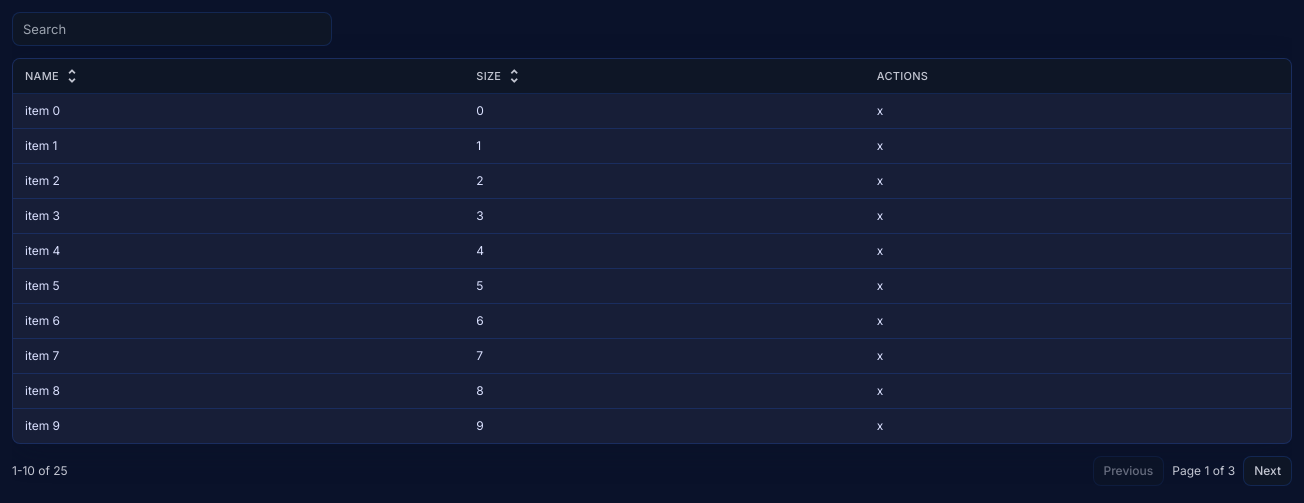
Test case: DataTable › paginates and filters with search
Expected: the text "1-10 of 25" is shown, [12,462,68,480]
Click the button "Next".
click(1268, 471)  # box [1243,456,1292,486]
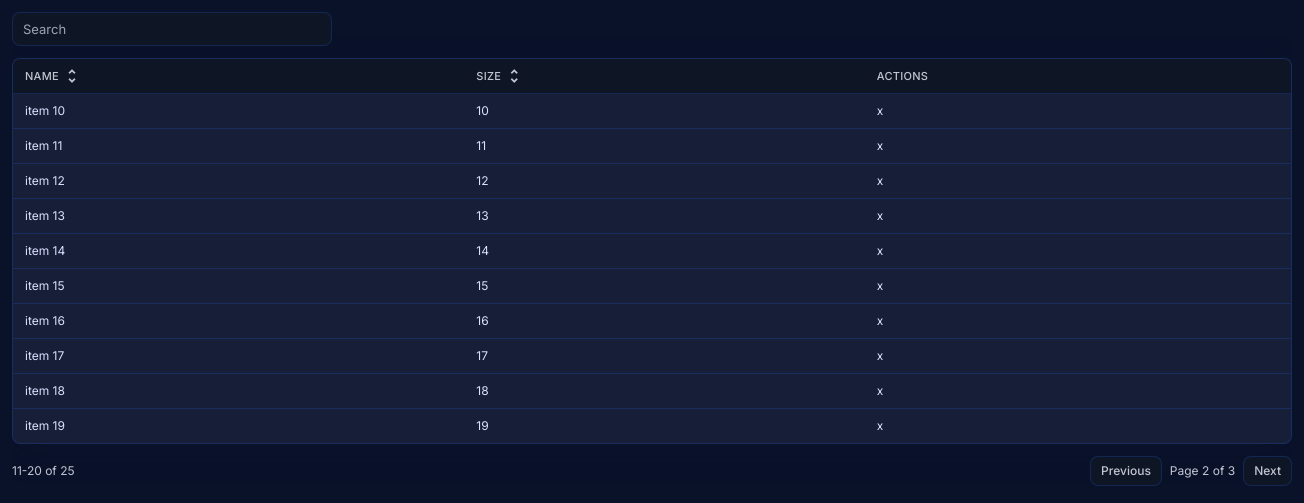
Now the text "11-20 of 25" is shown, box [12,462,75,480]
Type "item 2" into the search field named "Find".
click(172, 29); type("item 2")  # box [12,12,332,46]
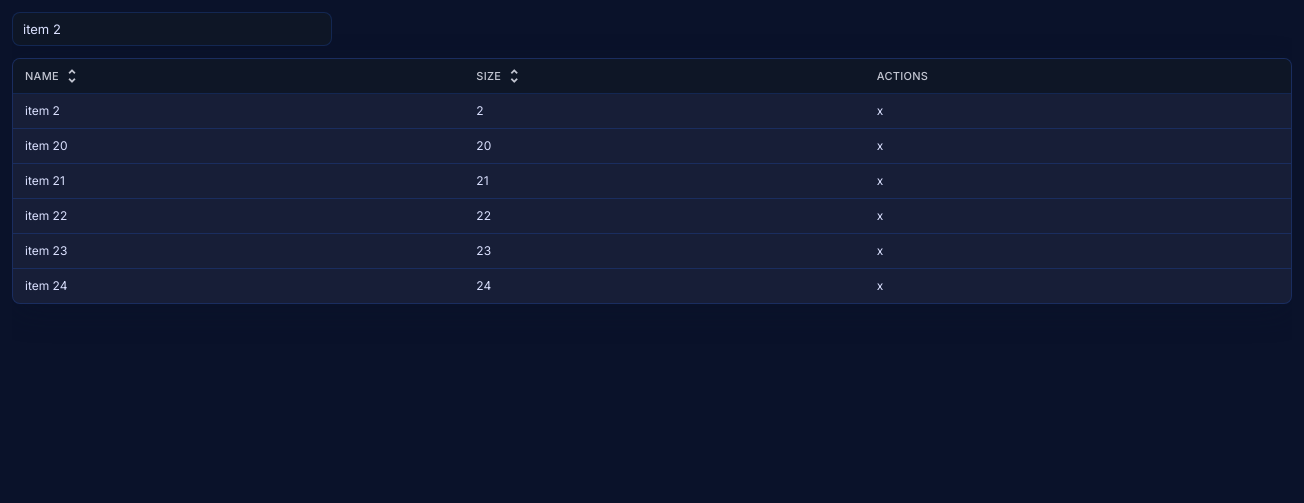
Now the field labelled "Pagination" is gone
